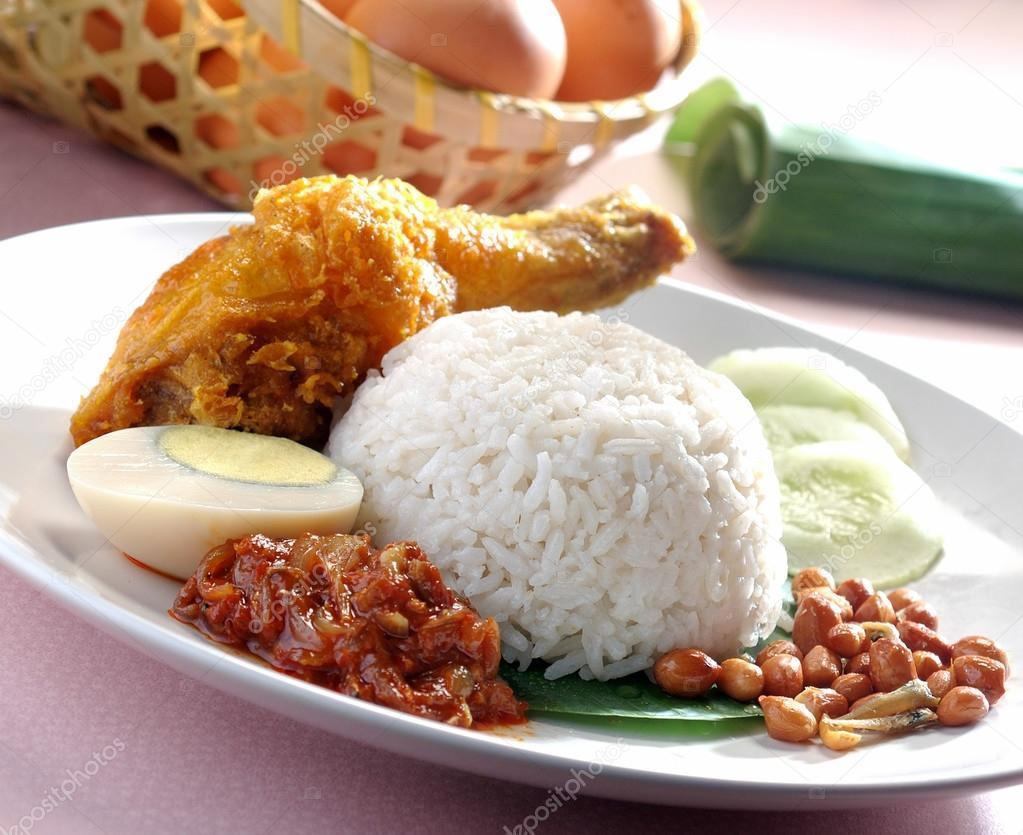Boiled-Egg: (67, 426, 365, 583)
Cucumber: (710, 348, 949, 594)
Fried-Chicken: (75, 180, 695, 449)
Peanuts: (655, 568, 1004, 751)
Rice: (323, 309, 791, 681)
Sambal: (172, 534, 525, 731)
